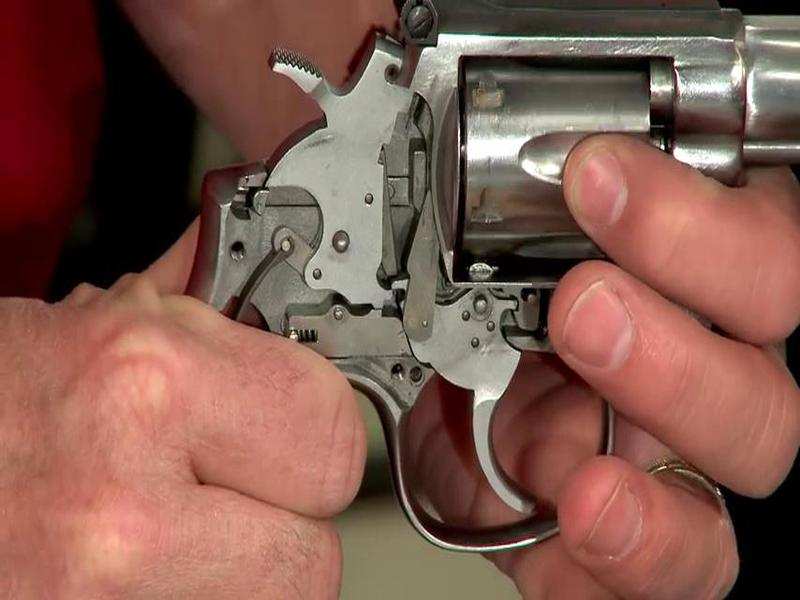Revolver: (145, 14, 800, 548)
